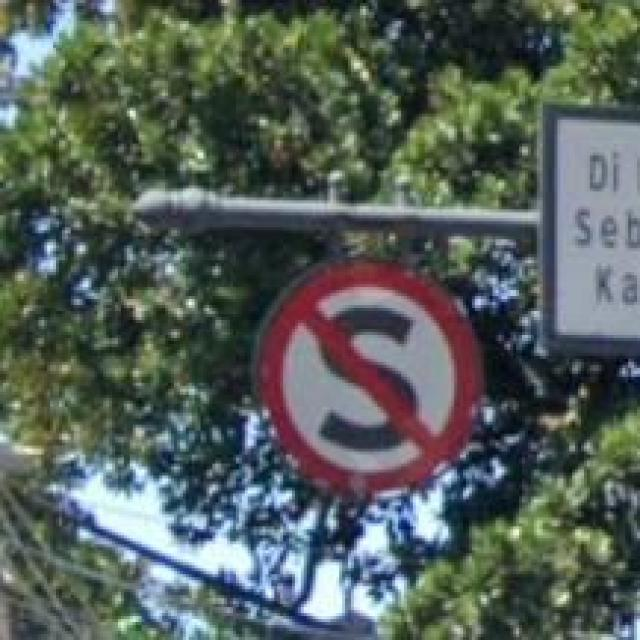traffic sign: (266, 263, 484, 497)
